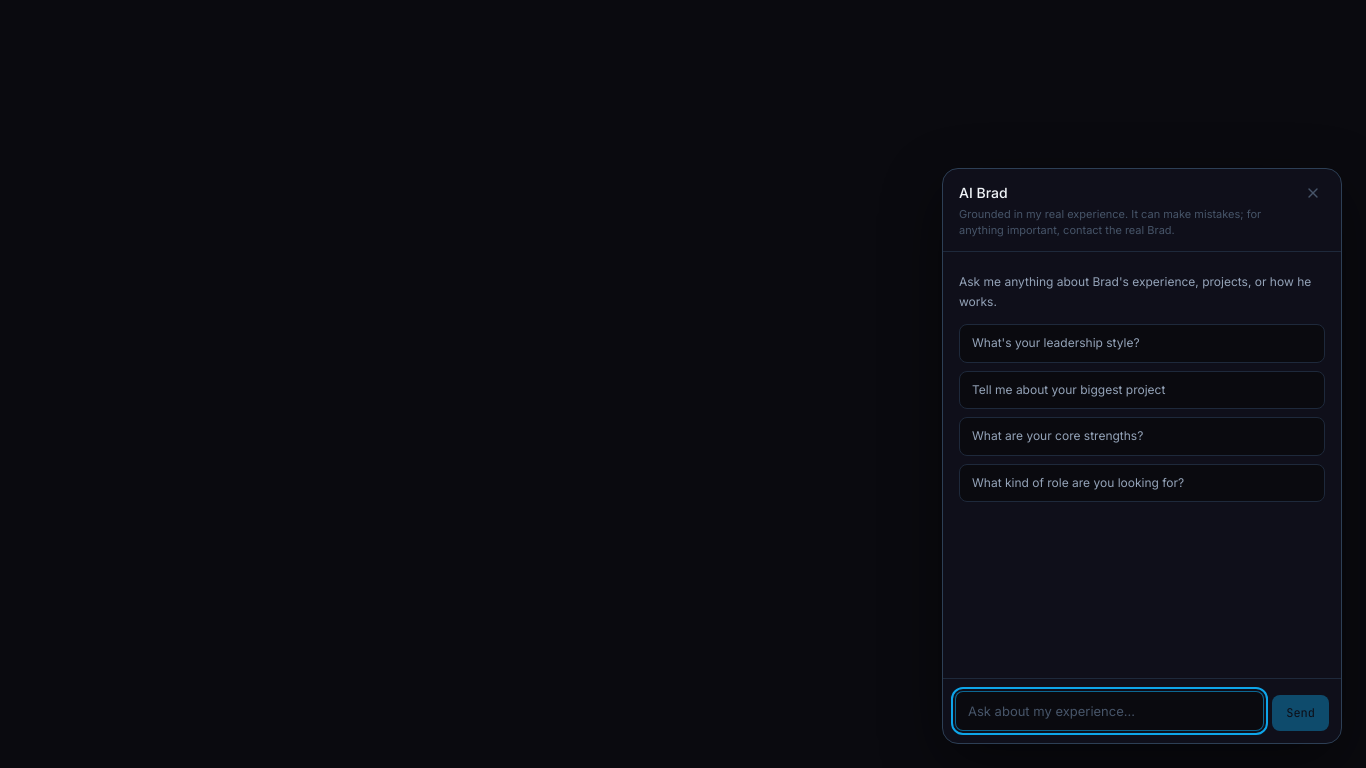
ChatPanel › shows an error row with retry when the request fails
Step 1. Type "Hi" into the text box named "Message AI Brad" → (1110, 711), box [955,691,1264,731]
Then press Enter
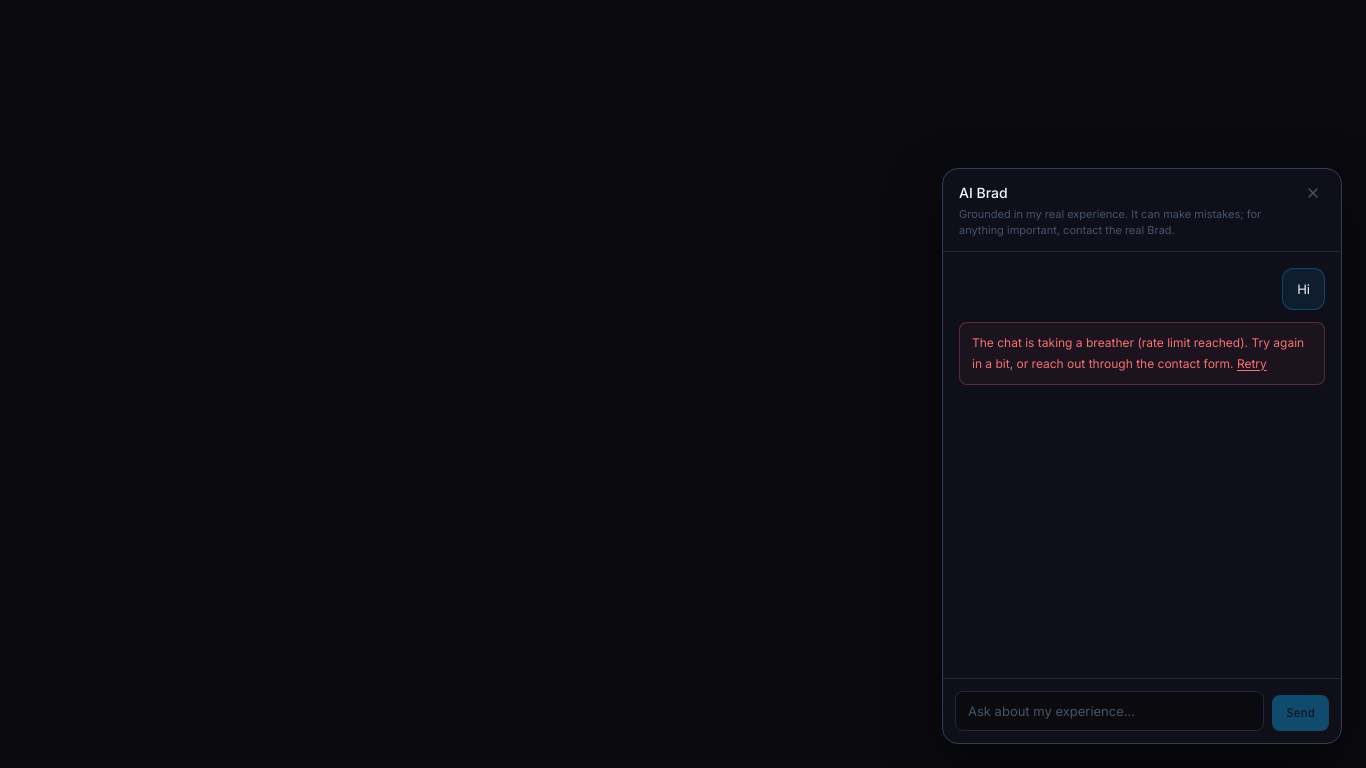
Result: the text "rate limit" is shown at [972,336,1304,371]
Result: the button "Retry" is shown at [1237,354,1267,374]
Result: the message is shown at [959,322,1325,385]
